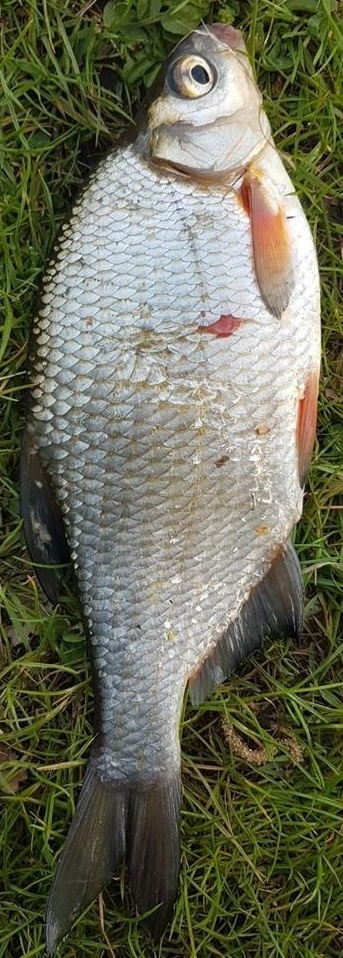Blicca bjoerkna: (20, 20, 323, 958)
